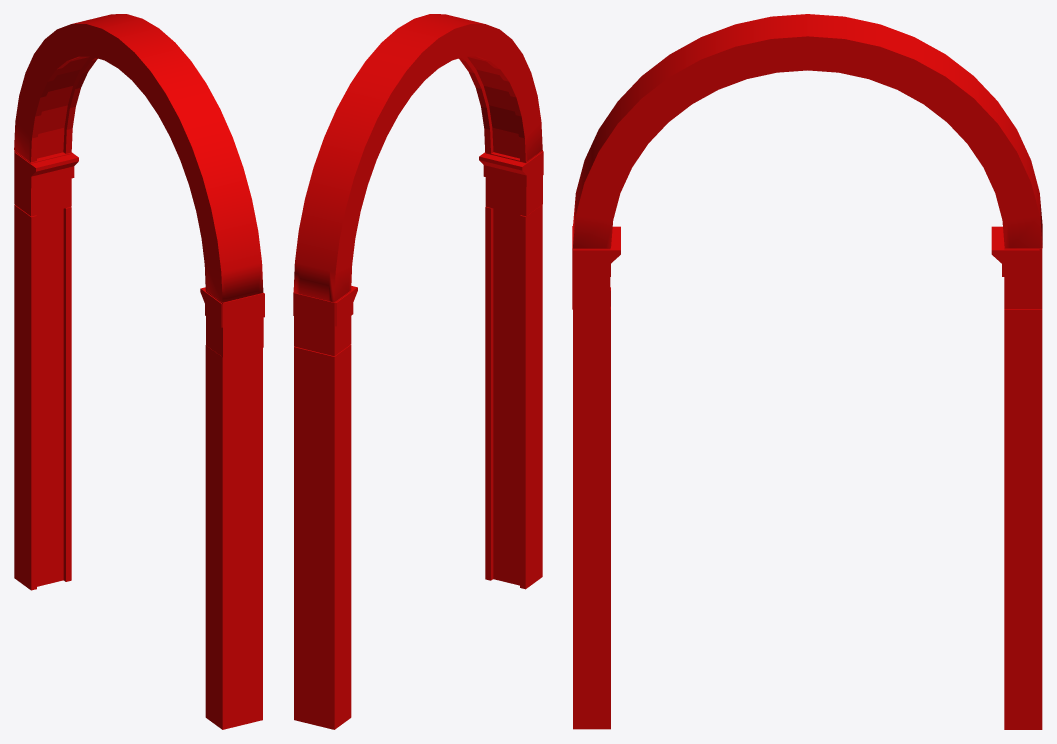
Rendered from Arc_01_Lod0.fbx.
The picture shows the model from 3 angles, left to right: view 1: azimuth 30°, elevation 25°; view 2: azimuth 150°, elevation 25°; view 3: azimuth 270°, elevation 25°; orthographic projection. The views are drawn at different scales.
Parts seen in each view (by area): view 1: Arc_01_Lod0; view 2: Arc_01_Lod0; view 3: Arc_01_Lod0.
Boxes of the visible parts, box(x1,y1,x2,y2) form: Arc_01_Lod0: box(14, 14, 264, 729); Arc_01_Lod0: box(293, 14, 543, 729); Arc_01_Lod0: box(572, 14, 1042, 729).
Bounding box in the file's own units: 178 × 2425 × 1490.
